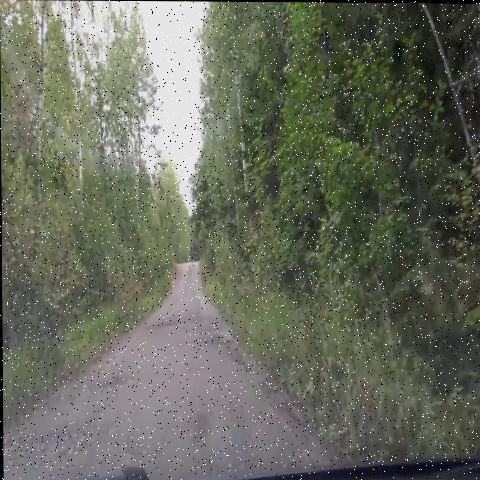pothole: (52, 405, 109, 474), (117, 429, 170, 469), (232, 340, 264, 396), (197, 322, 237, 362), (89, 374, 148, 395), (143, 310, 185, 336)
